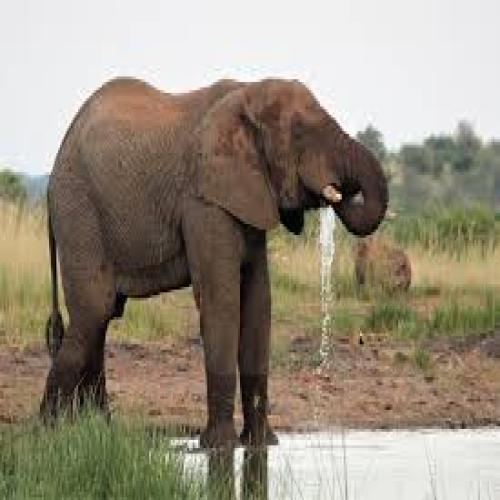asian_elephant-endangered: (41, 76, 390, 451)
